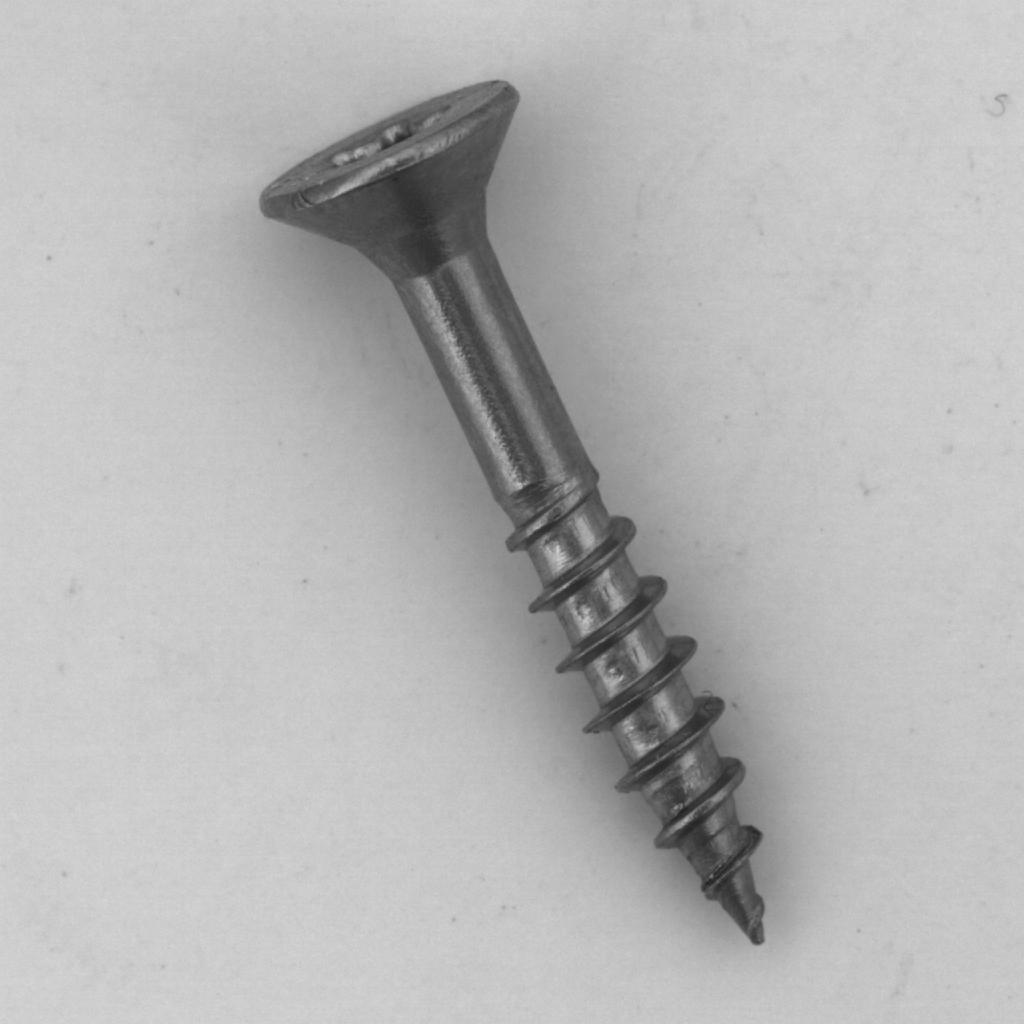good: (234, 66, 796, 966)
